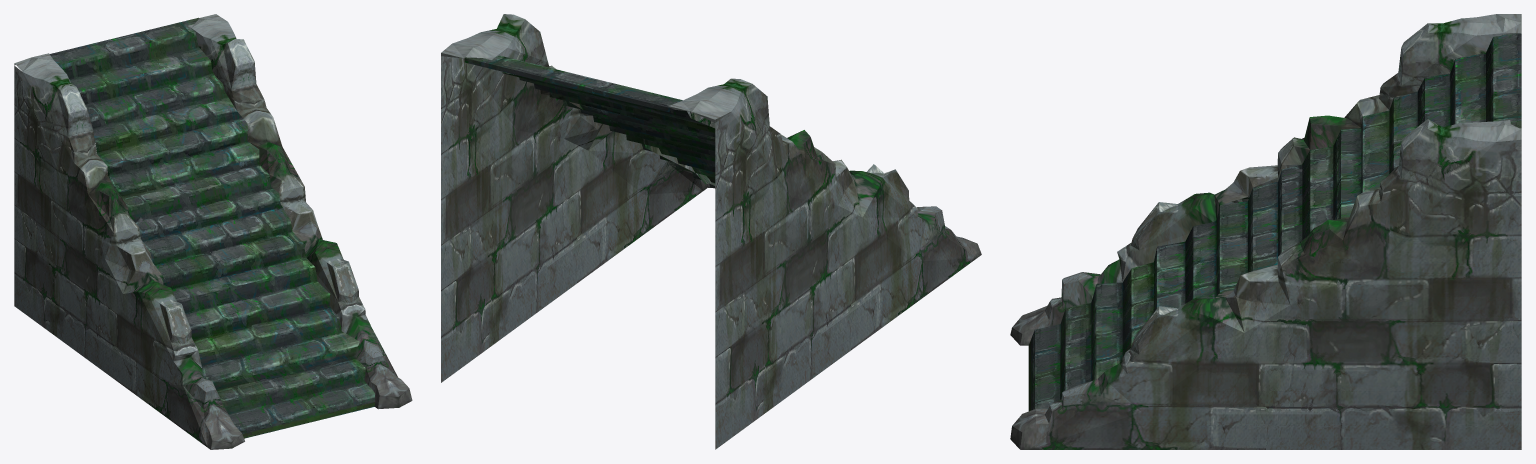
File: stemple_wall_stair_01.fbx
The picture shows the model from 3 angles, left to right: view 1: azimuth 30°, elevation 25°; view 2: azimuth 150°, elevation 25°; view 3: azimuth 270°, elevation 25°; orthographic projection. The views are drawn at different scales.
Visible parts, largest first — view 1: obj1.041; view 2: obj1.041; view 3: obj1.041.
Boxes of the visible parts, x1,y1,x2,y2 form: obj1.041: [14, 14, 412, 449]; obj1.041: [441, 14, 981, 449]; obj1.041: [1010, 14, 1521, 449].
Bounding box in the file's own units: 4.91 × 5.69 × 8.3.
